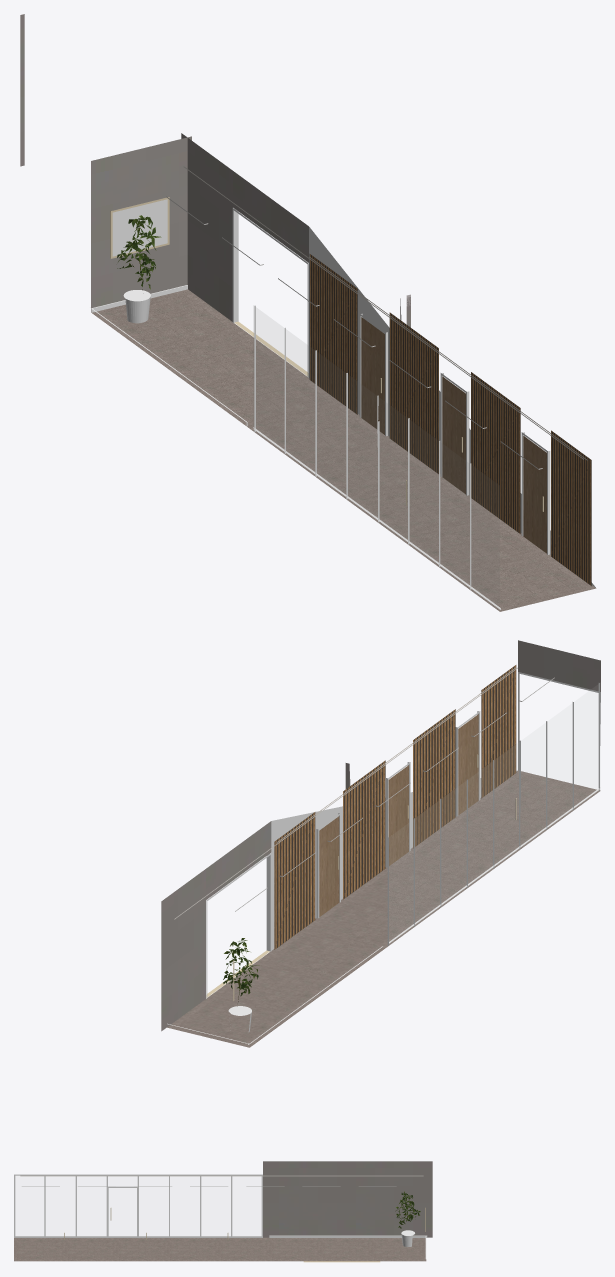
The model's file is z-corridor-lite.light.0db59e0b.glb.
The picture shows the model from 3 angles, top to bottom: view 1: azimuth 30°, elevation 25°; view 2: azimuth 150°, elevation 25°; view 3: azimuth 270°, elevation 25°; orthographic projection. The views are drawn at different scales.
Visible parts, largest first — view 1: corridor_terrazzo, corridor_proxy_slat, corridor_plaster, corridor_satin, corridor_oak, corridor_emit, corridor_veg_atlas, corridor_metal_satin; view 2: corridor_terrazzo, corridor_proxy_slat, corridor_plaster, corridor_satin, corridor_oak, corridor_emit, corridor_veg_atlas; view 3: corridor_plaster, corridor_terrazzo, corridor_satin, corridor_emit, corridor_veg_atlas, corridor_metal_satin.
Part boxes in pixels (box(x1,y1,x2,y2)): corridor_terrazzo: box(91, 289, 596, 611); corridor_proxy_slat: box(309, 254, 591, 585); corridor_plaster: box(20, 14, 410, 327); corridor_satin: box(90, 199, 595, 609); corridor_oak: box(361, 317, 546, 553); corridor_emit: box(166, 166, 587, 469); corridor_veg_atlas: box(117, 215, 161, 289); corridor_metal_satin: box(110, 197, 543, 511); corridor_terrazzo: box(167, 770, 600, 1047); corridor_proxy_slat: box(274, 665, 516, 949); corridor_plaster: box(161, 640, 600, 1031); corridor_satin: box(167, 672, 600, 1044); corridor_oak: box(319, 714, 478, 916); corridor_emit: box(174, 667, 554, 919); corridor_veg_atlas: box(223, 938, 259, 1001); corridor_plaster: box(263, 1161, 432, 1237); corridor_terrazzo: box(14, 1237, 426, 1261); corridor_satin: box(14, 1174, 427, 1258); corridor_emit: box(20, 1175, 423, 1186); corridor_veg_atlas: box(395, 1191, 420, 1228); corridor_metal_satin: box(64, 1207, 425, 1262).
Size of the model in its own units: 2.3 by 3.35 by 23.
9 materials, 5 textured.
